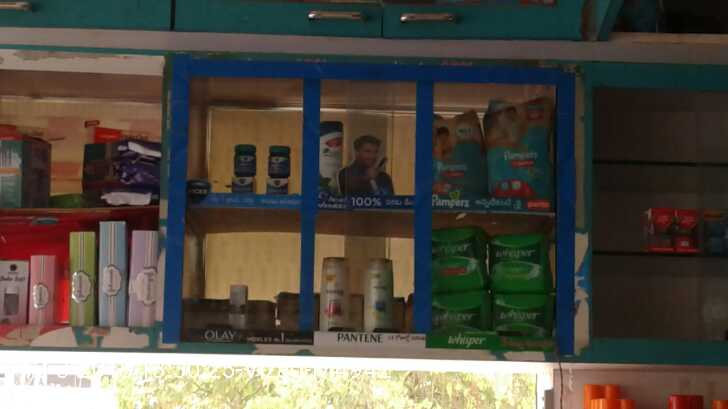beauty: (320, 256, 351, 330), (317, 115, 344, 198), (363, 255, 390, 333), (229, 280, 248, 331)
pharmacy: (481, 97, 550, 199), (425, 115, 484, 200), (416, 226, 478, 289), (409, 288, 485, 337), (486, 236, 550, 292), (485, 292, 550, 339), (265, 144, 293, 178), (232, 144, 259, 178), (223, 175, 256, 195), (263, 177, 291, 199)
